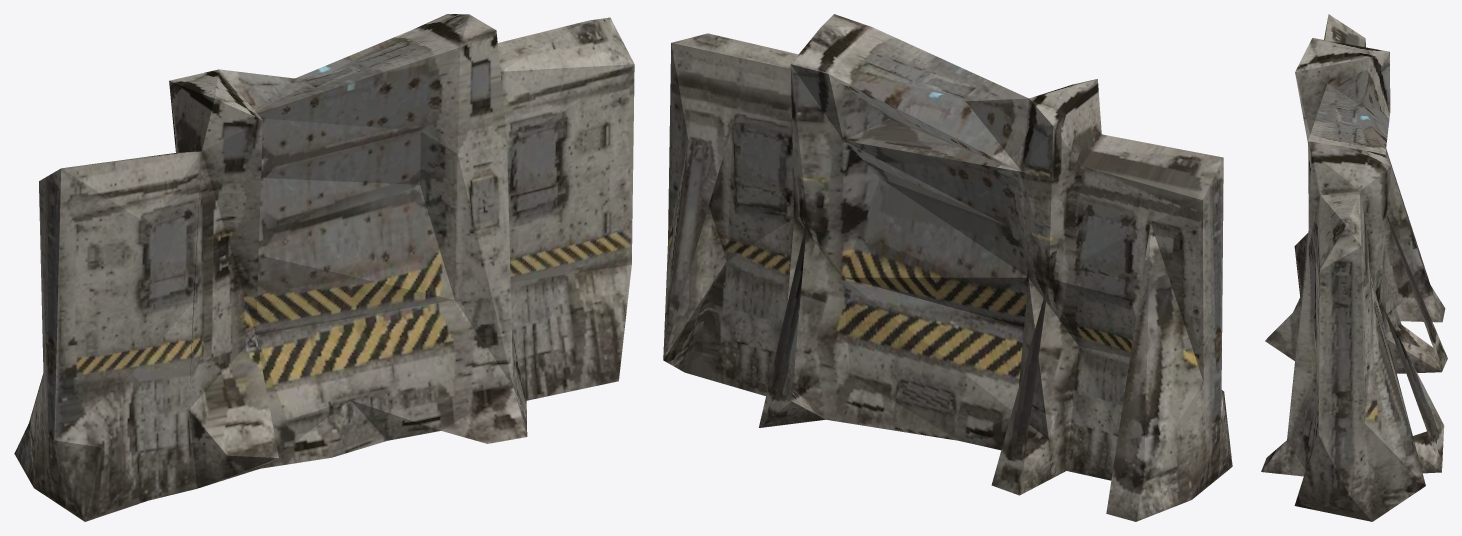
Rendered from struct.barrier.reinforced.glb.
The picture shows the model from 3 angles, left to right: view 1: azimuth 30°, elevation 25°; view 2: azimuth 150°, elevation 25°; view 3: azimuth 270°, elevation 25°; orthographic projection. The views are drawn at different scales.
Parts seen in each view (by area): view 1: body; view 2: body; view 3: body.
Boxes of the visible parts, x1,y1,x2,y2 form: body: (14, 14, 634, 521); body: (663, 14, 1232, 521); body: (1261, 14, 1447, 521).
Size of the model in its own units: 1.29 by 0.834 by 0.4379.
1 material, 1 textured.
